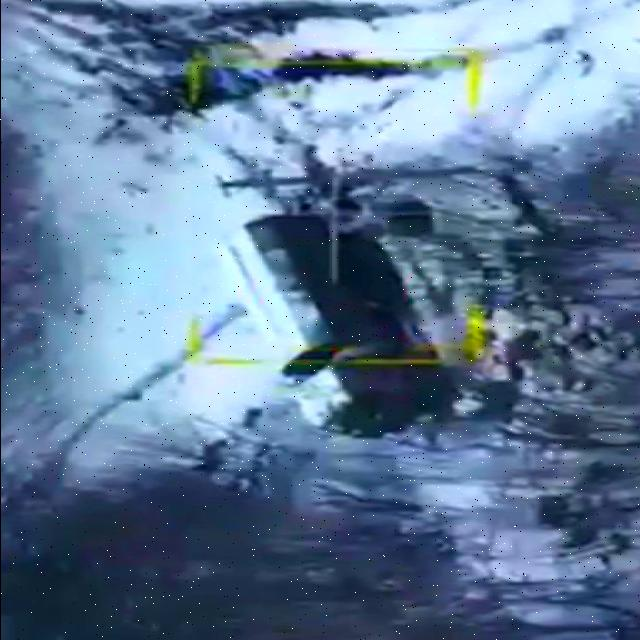TRUCK: (216, 213, 450, 437)
